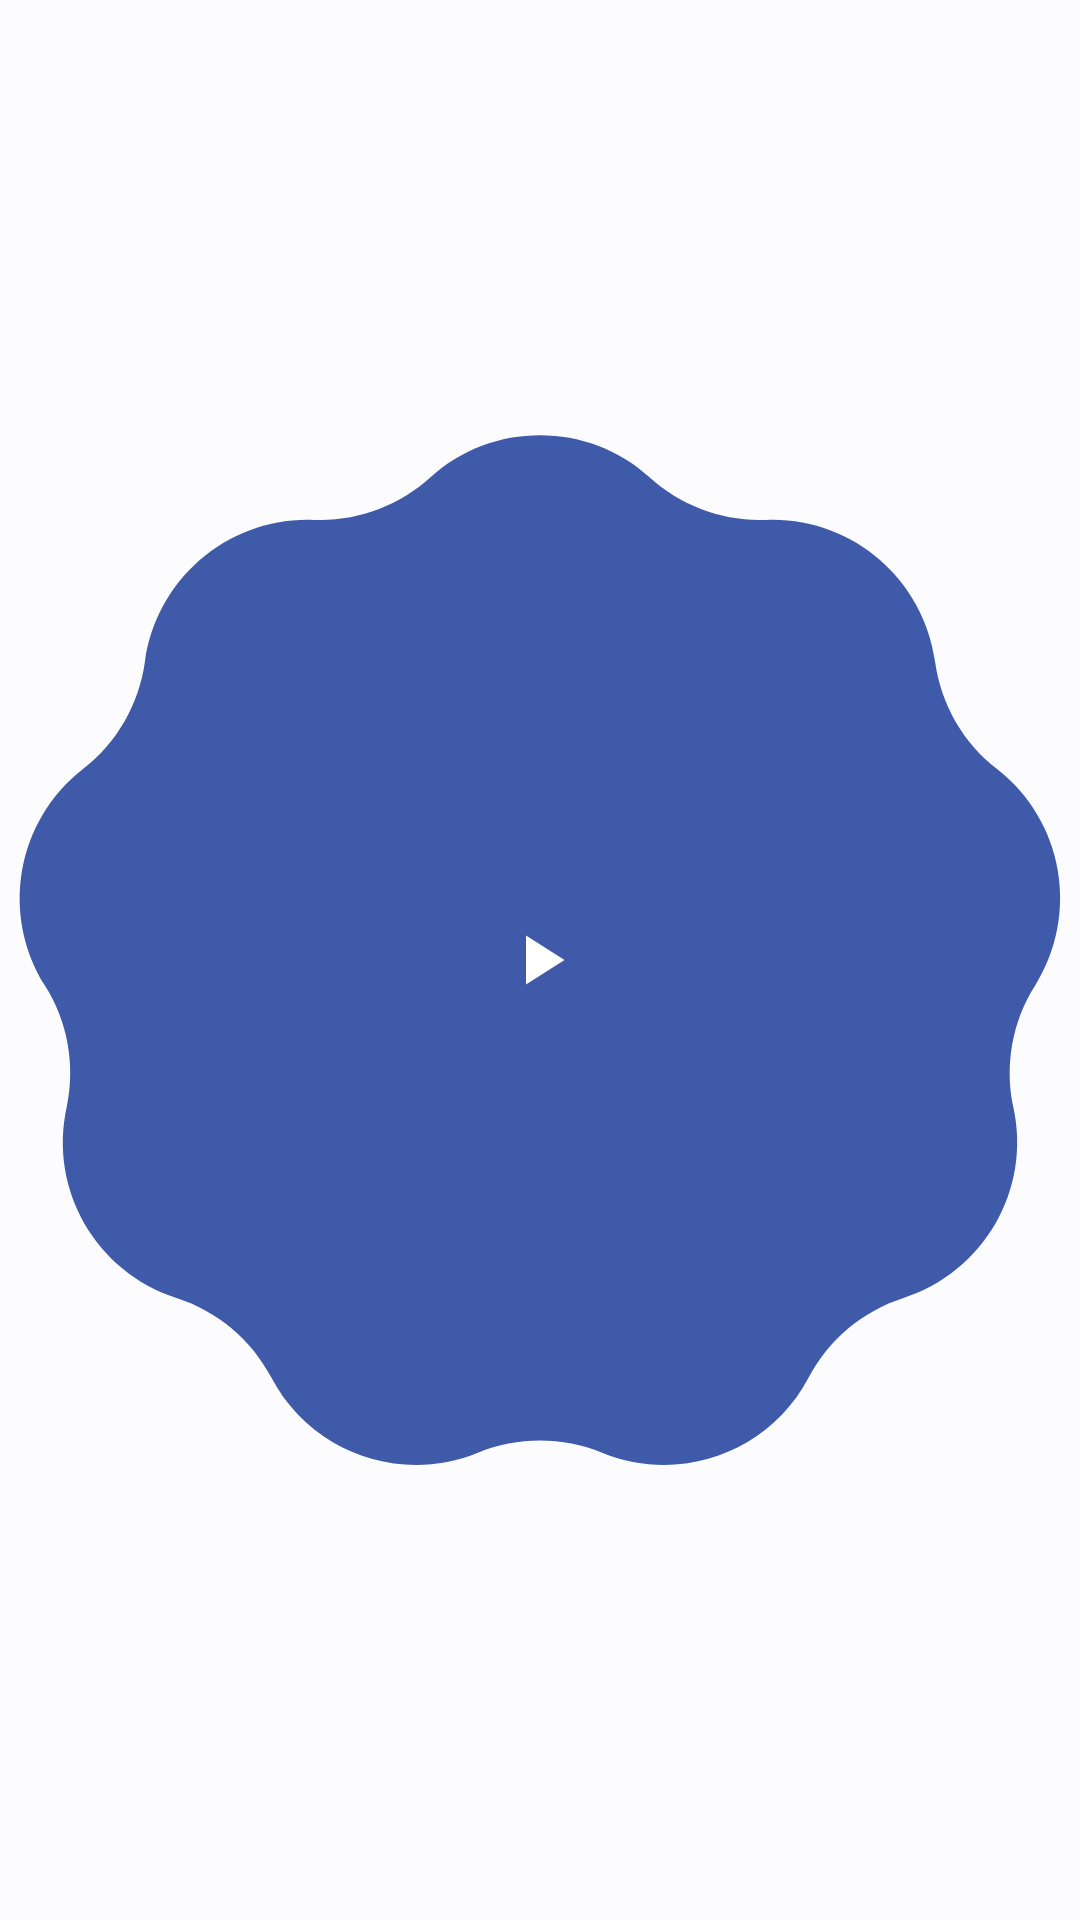

Icons on this 1080×1920 Android screen, each with the point to tap as (x=x, y=y):
widget play: (x=545, y=960)
